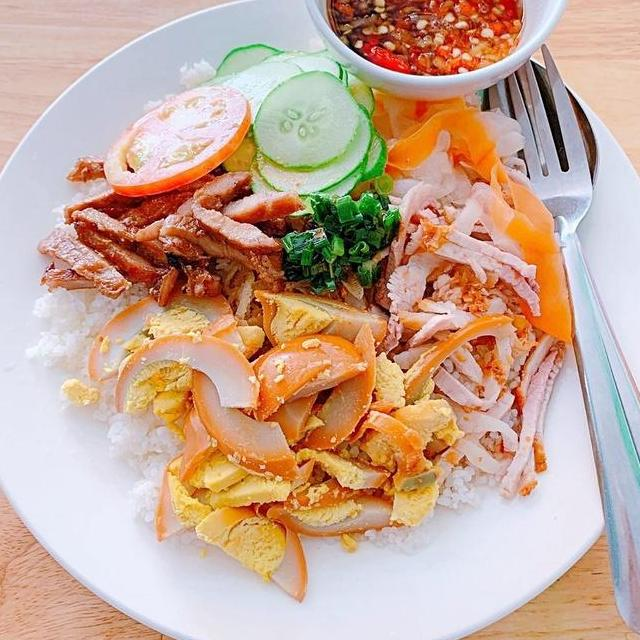com: (89, 374, 188, 527), (365, 458, 506, 555), (21, 275, 150, 378)
com suon trung: (10, 45, 586, 611)
dua chua: (448, 174, 577, 346), (364, 84, 530, 214)
suon: (378, 181, 569, 500), (32, 153, 310, 310)
trung: (183, 284, 467, 544), (153, 441, 311, 607), (86, 287, 262, 417)
